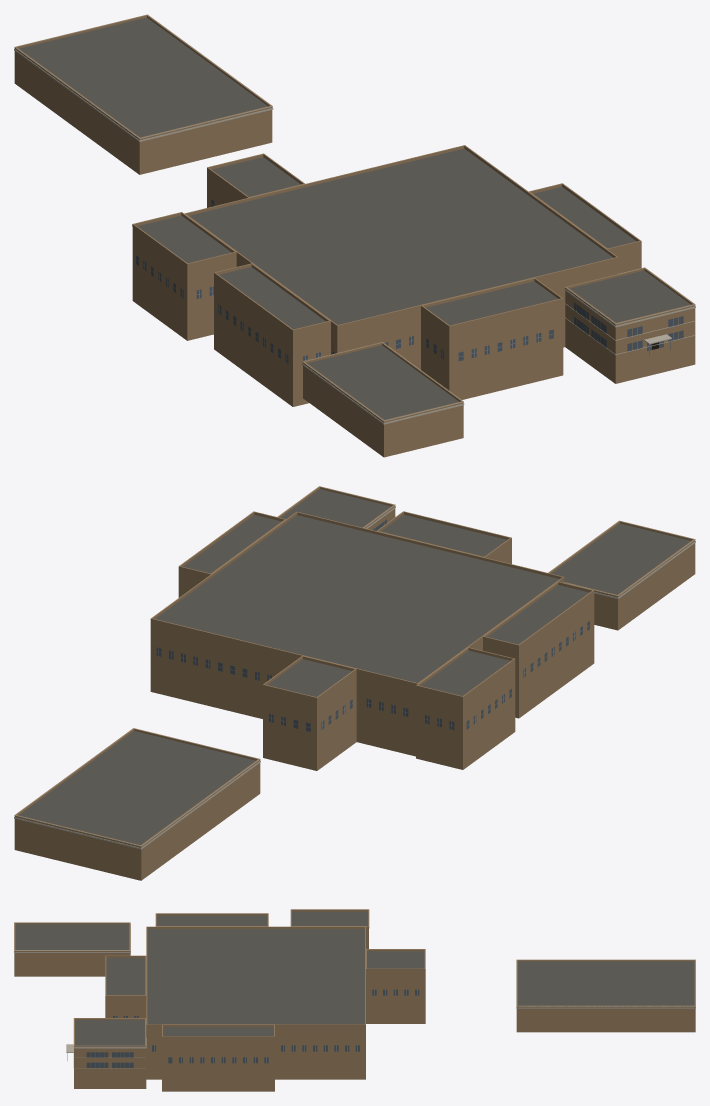
Rendered from parkview-high-school.glb.
3 views of the same model, one above another, from view 1: azimuth 30°, elevation 25°; view 2: azimuth 150°, elevation 25°; view 3: azimuth 270°, elevation 25° (orthographic). The views are drawn at different scales.
Visible parts, largest first — view 1: parkview_high_school; view 2: parkview_high_school; view 3: parkview_high_school.
Boxes of the visible parts, x1,y1,x2,y2 form: parkview_high_school: [14, 14, 695, 457]; parkview_high_school: [14, 486, 695, 880]; parkview_high_school: [14, 909, 695, 1091].
Bounding box in the file's own units: 96.08 × 19.35 × 217.
